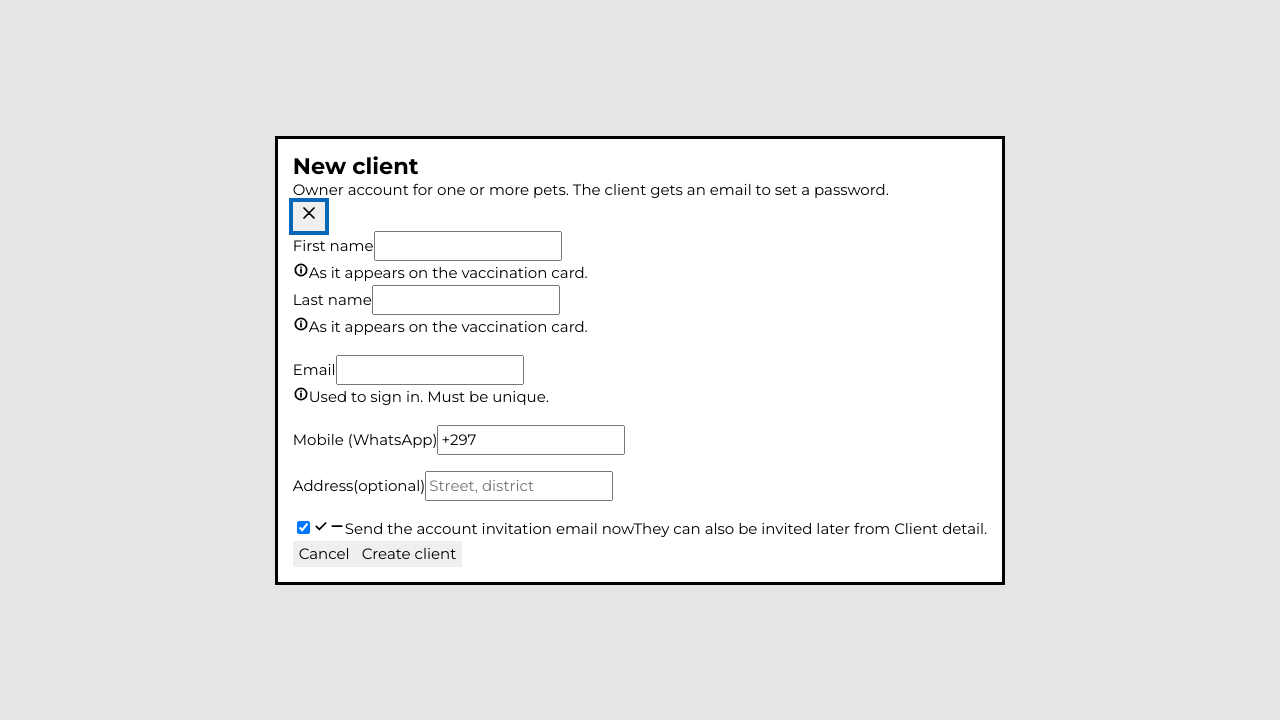
Test: ClientModal › explains every field that needs fixing and keeps what was typed
Type "Carlos" into the field labelled "First name" at (468,246), box [374,230,562,260]
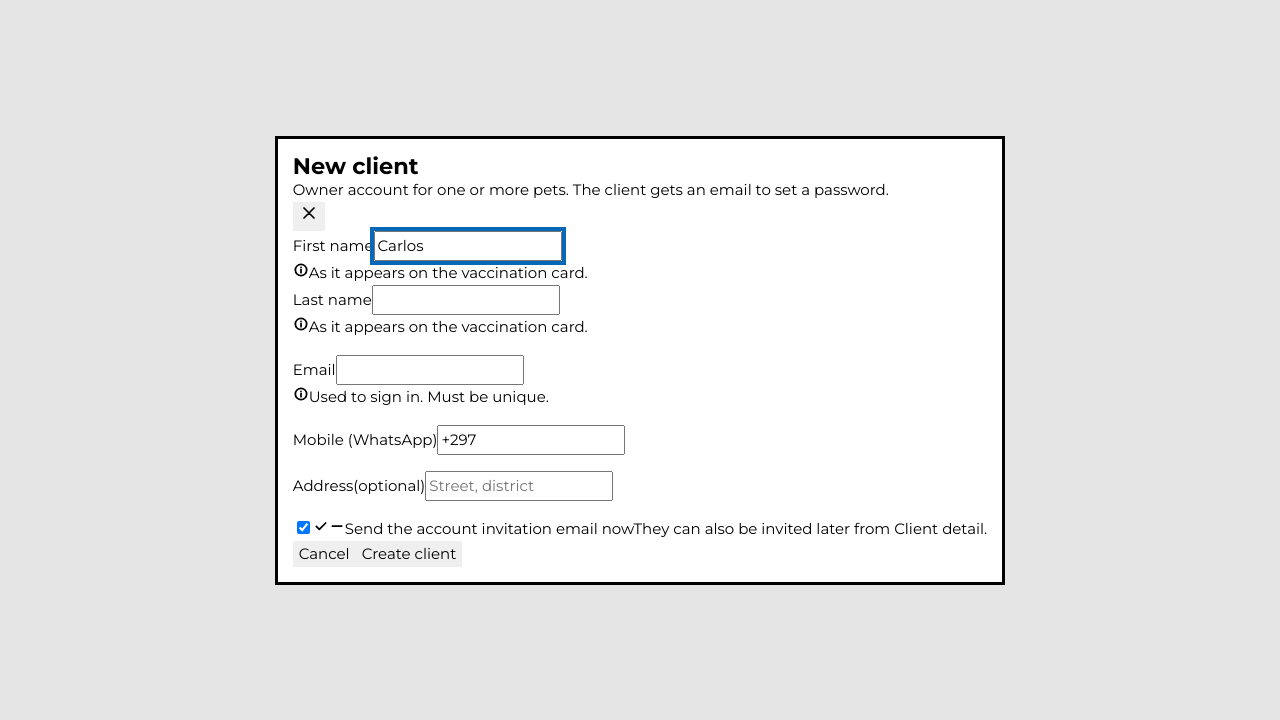
Type "carlos@" into the field labelled "Email" at (430,370), box [336,354,524,384]
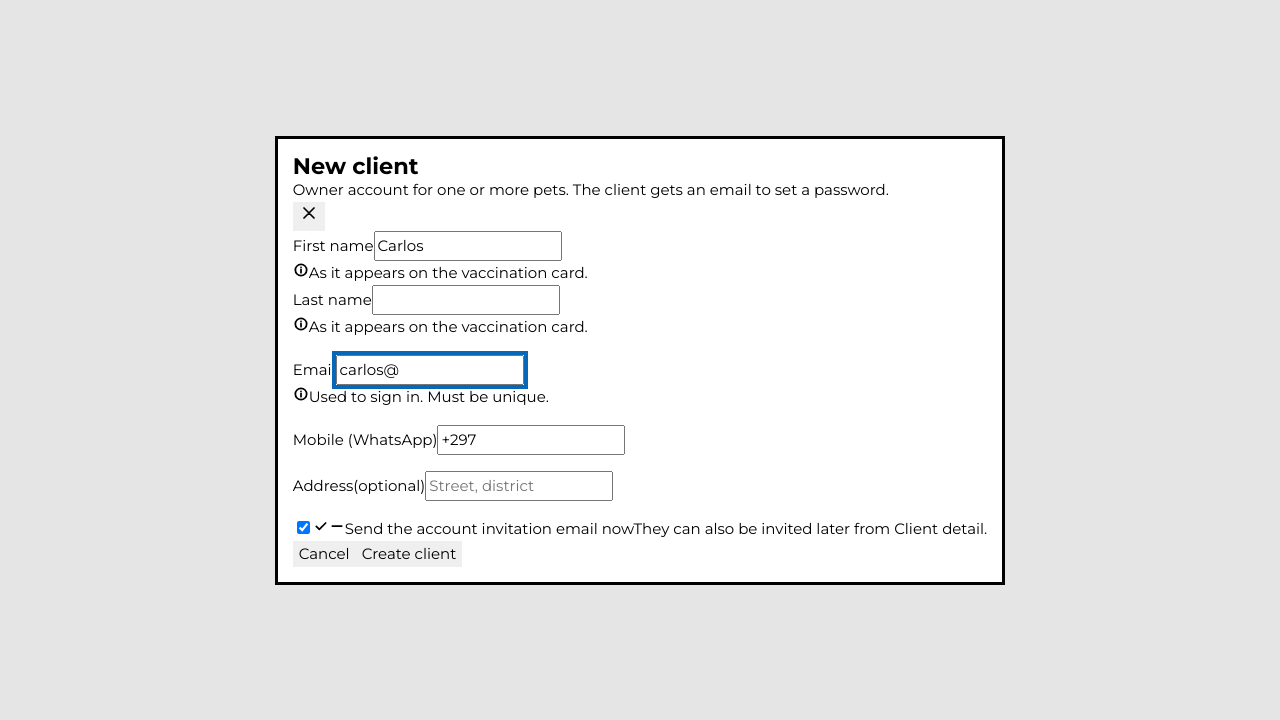
Click the button "Create client" at (409,554), box [356,540,462,566]
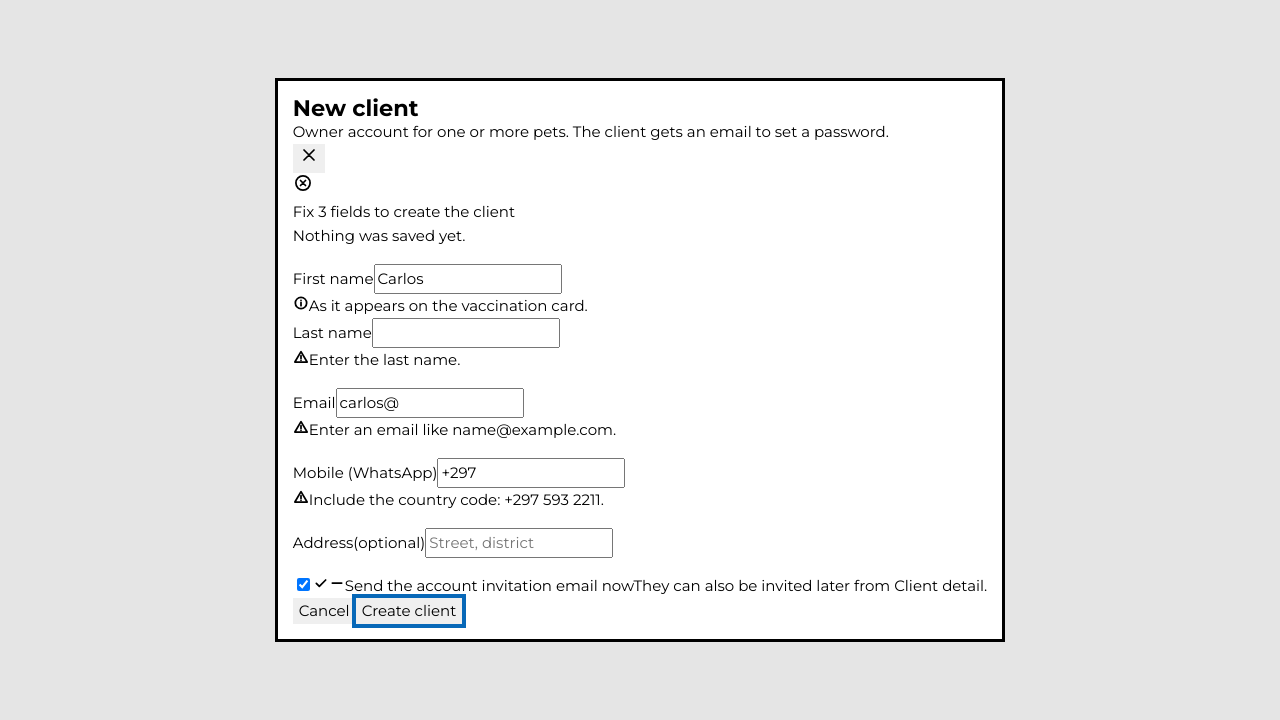
Now the message shows "Fix 3 fields to create the client", box [293,202,515,221]
Now the text "Enter the last name." is shown, box [309,350,460,369]
Now the text "Enter an email like name@example.com." is shown, box [309,420,616,439]
